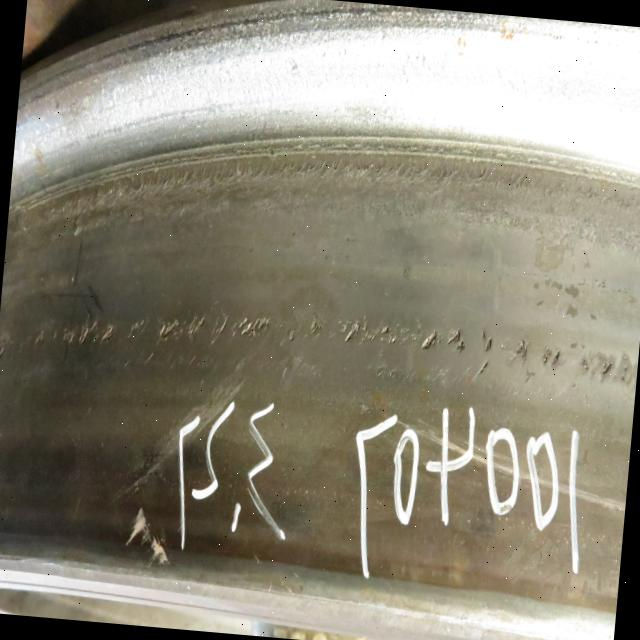Peeling: (33, 285, 639, 404)
